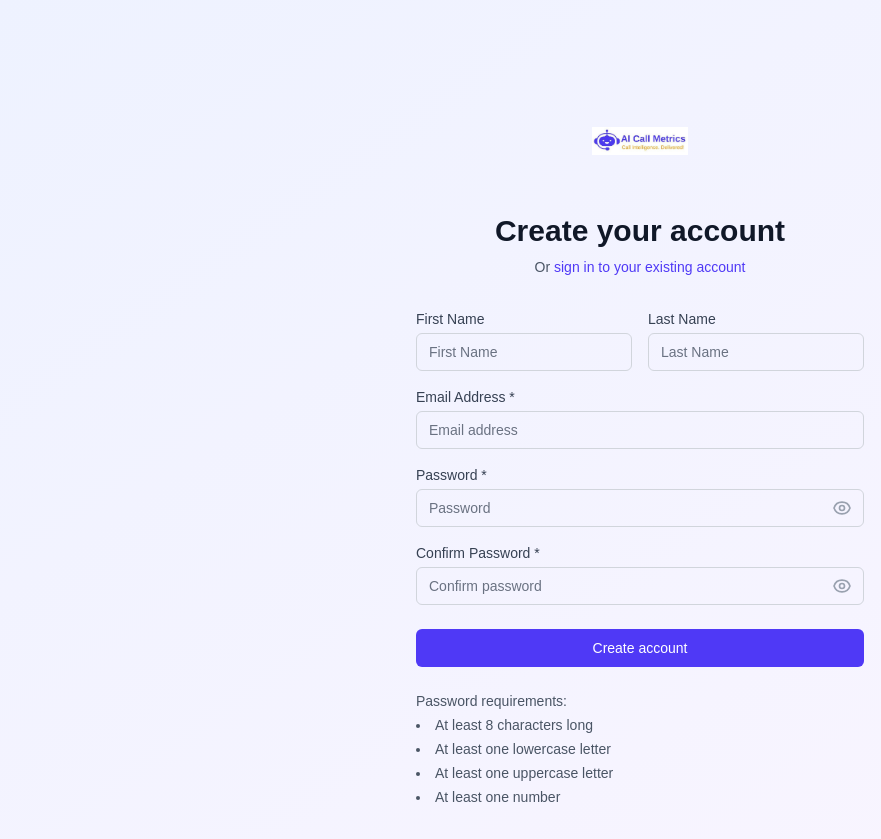
RegisterForm › Password Strength Indicator › shows Weak for password with only lowercase
This screenshot has width=881, height=839.
Type "abcdefgh" into the password field labelled "Password *". click: {"x": 640, "y": 508}
box: [416,489,864,527]
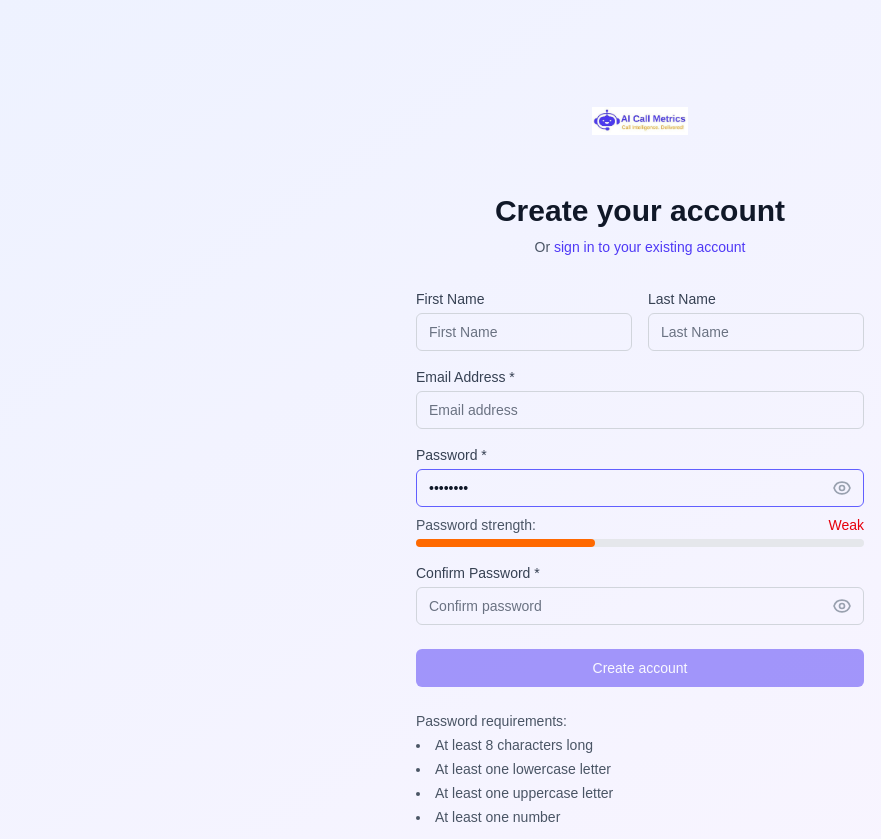
Result: the text "Weak" is shown at [828,515,864,535]
